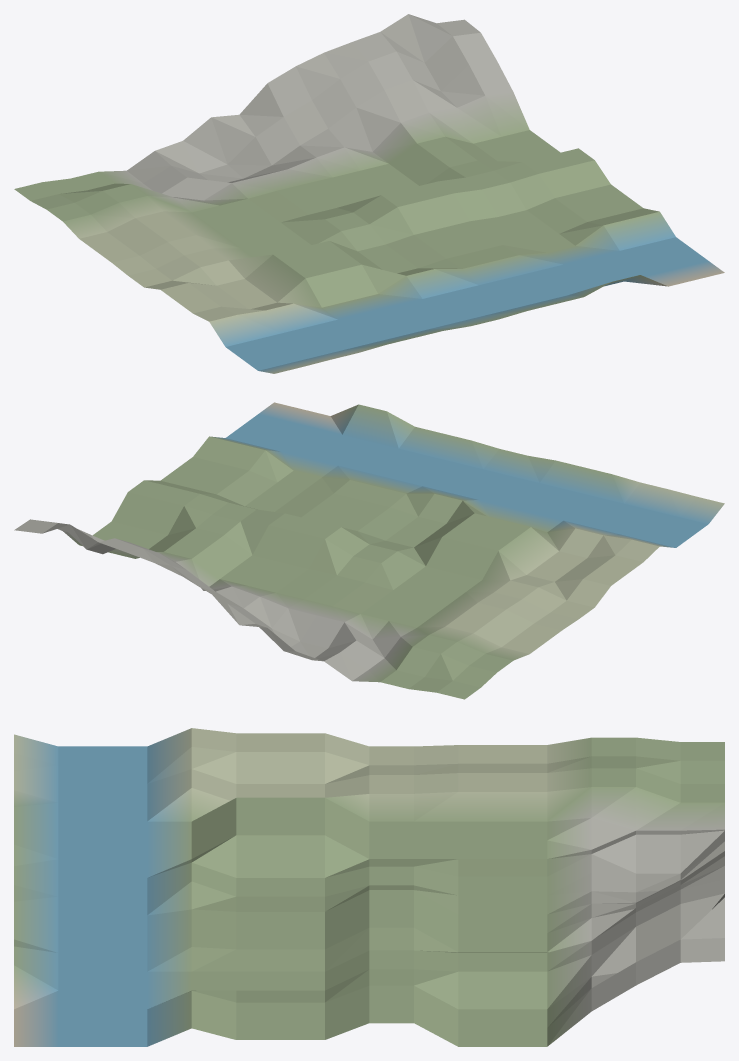
3 views of the same model, one above another, from view 1: azimuth 30°, elevation 25°; view 2: azimuth 150°, elevation 25°; view 3: azimuth 270°, elevation 25° (orthographic). The views are drawn at different scales.
Bounding box in the file's own units: 32 × 6.28 × 32.
